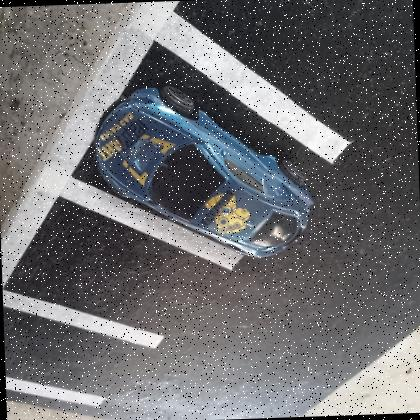Car: (93, 81, 314, 264)
